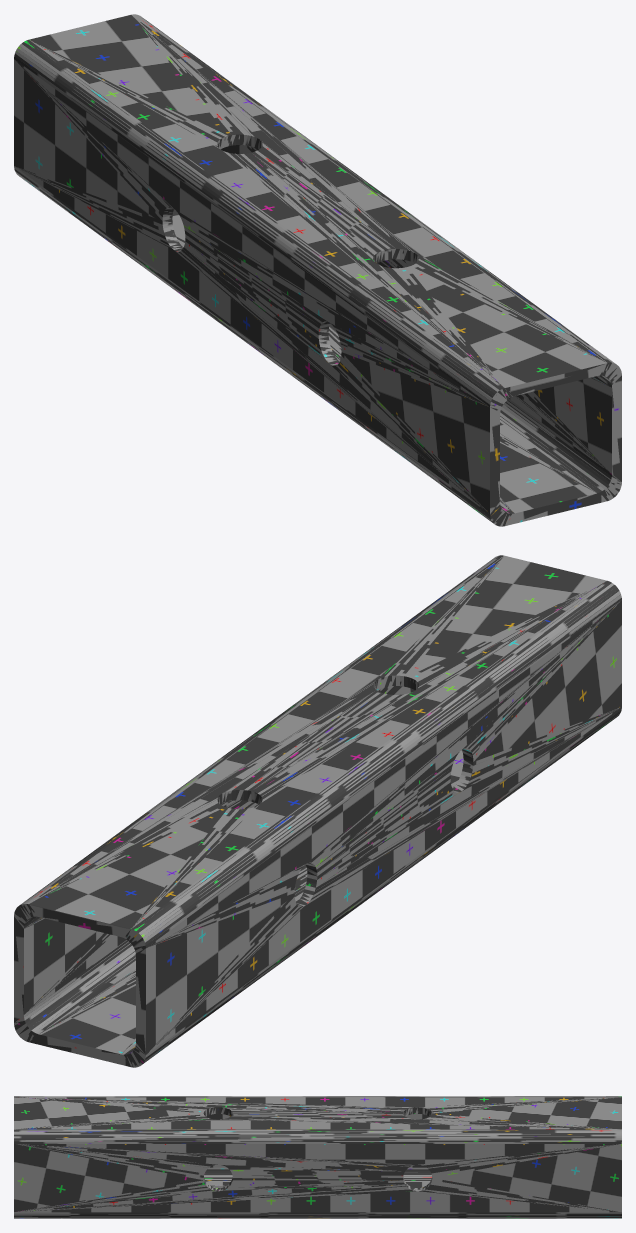
3 renders of one model, top to bottom at view 1: azimuth 30°, elevation 25°; view 2: azimuth 150°, elevation 25°; view 3: azimuth 270°, elevation 25°, orthographic. The views are drawn at different scales.
Visible parts, largest first — view 1: Mesh_0; view 2: Mesh_0; view 3: Mesh_0.
Boxes of the visible parts, x1=… form: Mesh_0: x1=14, y1=14, x2=621, y2=526; Mesh_0: x1=14, y1=555, x2=621, y2=1067; Mesh_0: x1=14, y1=1096, x2=621, y2=1218.
Bounding box in the file's own units: 20 × 20 × 125.
Materials: 1 (1 with a texture image).
